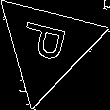P_E: (18, 22, 76, 70)
